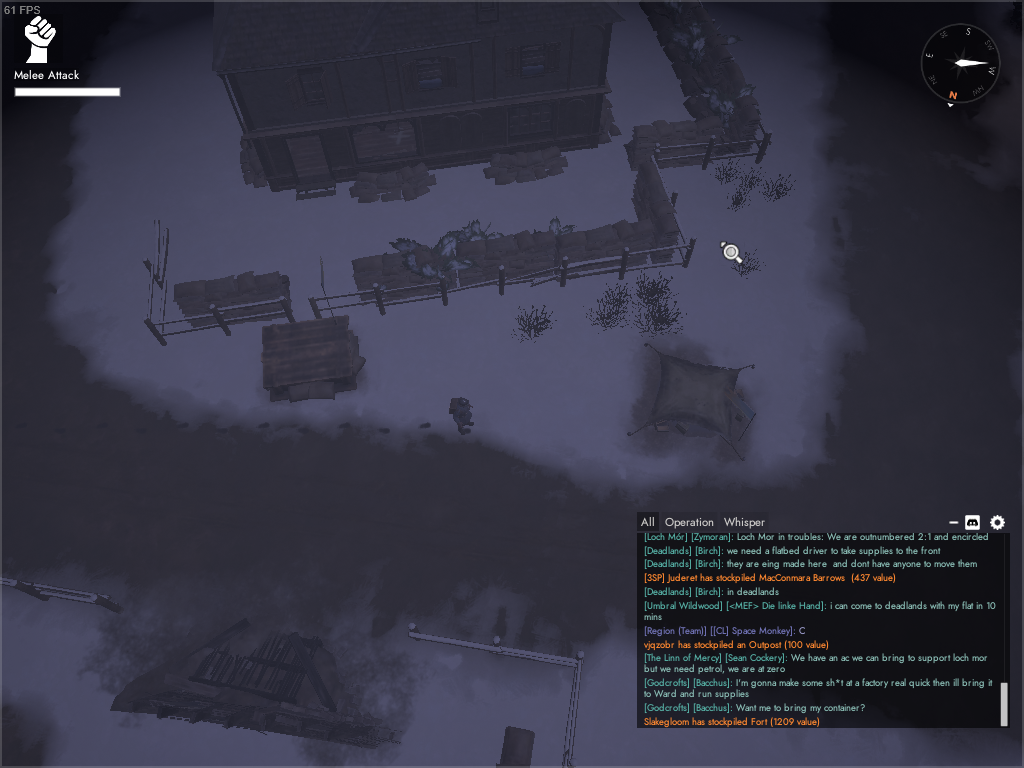foxhole: (626, 342, 756, 462)
pillbox: (258, 255, 367, 407)
player: (448, 396, 476, 436)
sandbag: (679, 59, 766, 158), (173, 270, 291, 330), (657, 7, 740, 81), (453, 230, 556, 289), (350, 248, 458, 303), (558, 218, 651, 281), (622, 114, 730, 168), (629, 162, 681, 268), (347, 162, 438, 207), (482, 145, 569, 186), (635, 1, 706, 31)
